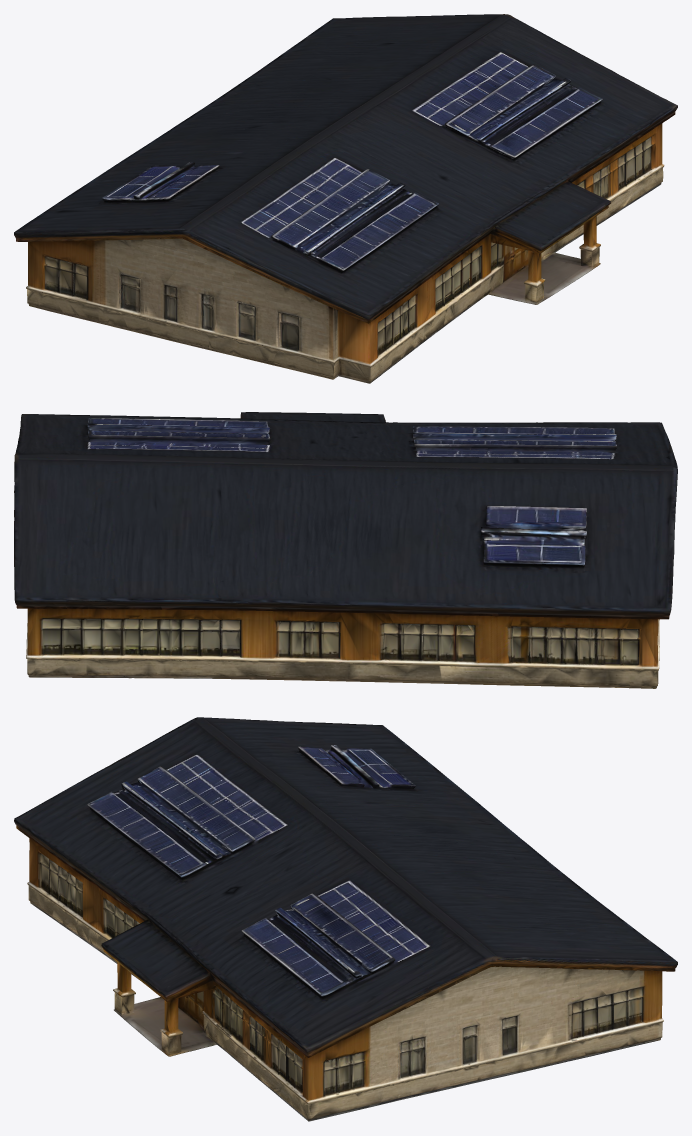
Rendered from freeman-center.glb.
3 renders of one model, top to bottom at view 1: azimuth 30°, elevation 25°; view 2: azimuth 150°, elevation 25°; view 3: azimuth 270°, elevation 25°, orthographic. The views are drawn at different scales.
Visible parts, largest first — view 1: node_0; view 2: node_0; view 3: node_0.
Boxes of the visible parts, x1=… form: node_0: x1=14, y1=14, x2=677, y2=383; node_0: x1=14, y1=412, x2=677, y2=688; node_0: x1=14, y1=717, x2=677, y2=1121.
Bounding box in the file's own units: 1.19 × 0.2234 × 1.03.
Materials: 1 (1 with a texture image).
